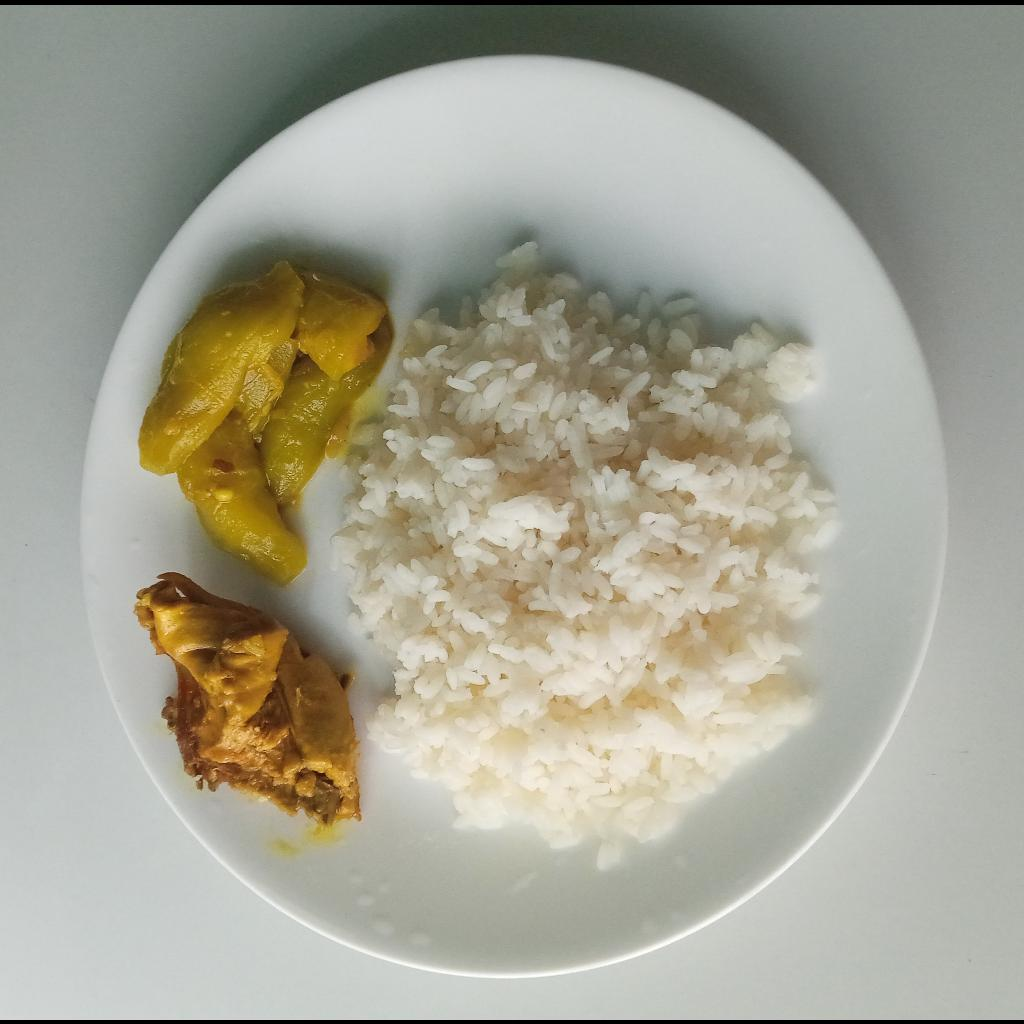chicken: (134, 567, 365, 827)
potol: (140, 263, 397, 588)
rice: (326, 241, 844, 865)
